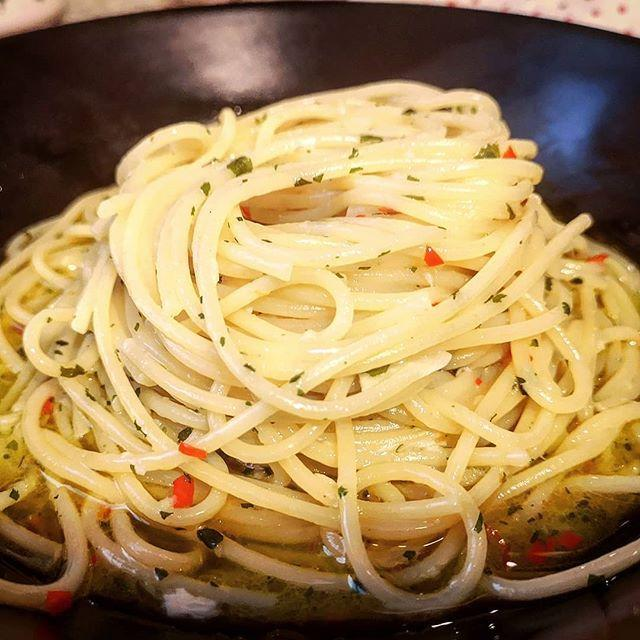Oil pasta: (22, 94, 640, 615)
